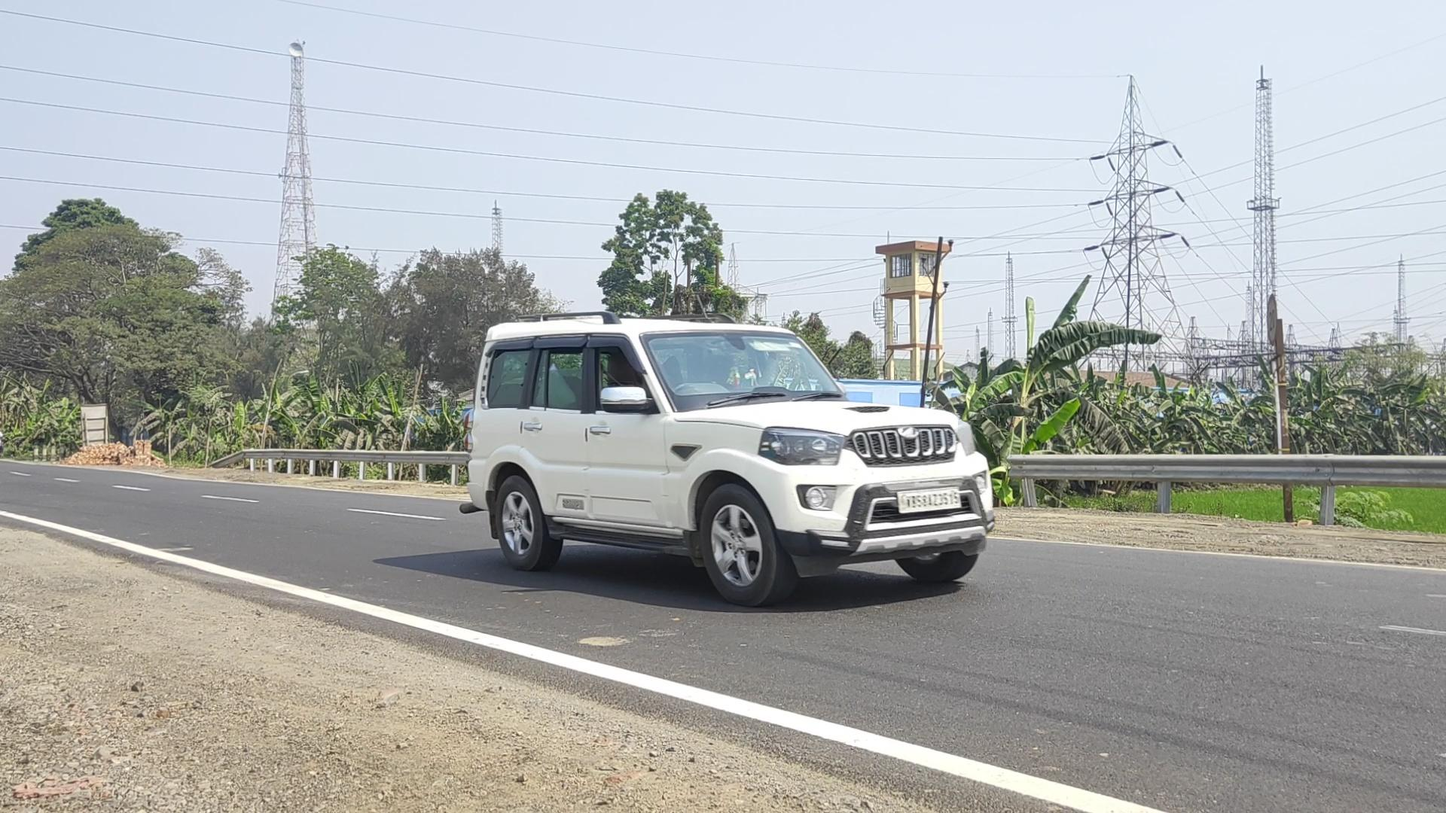car: (459, 309, 995, 608)
